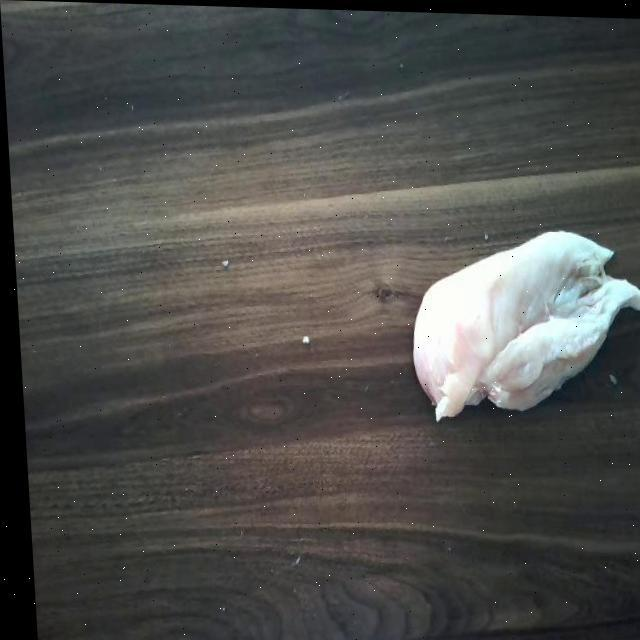breast: (399, 220, 640, 422)
